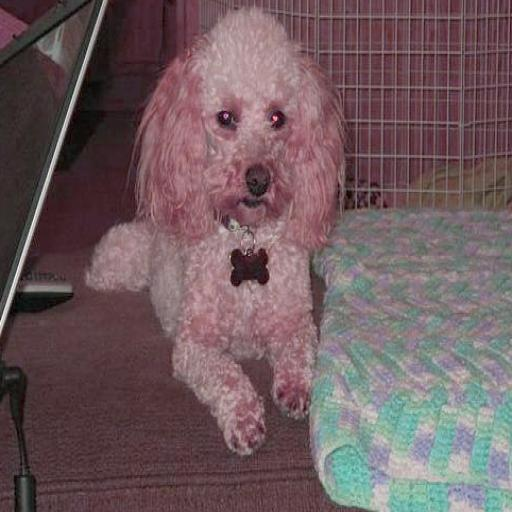dog_face: (145, 21, 338, 231)
